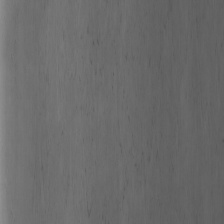silk_spot: (77, 26, 171, 207)
